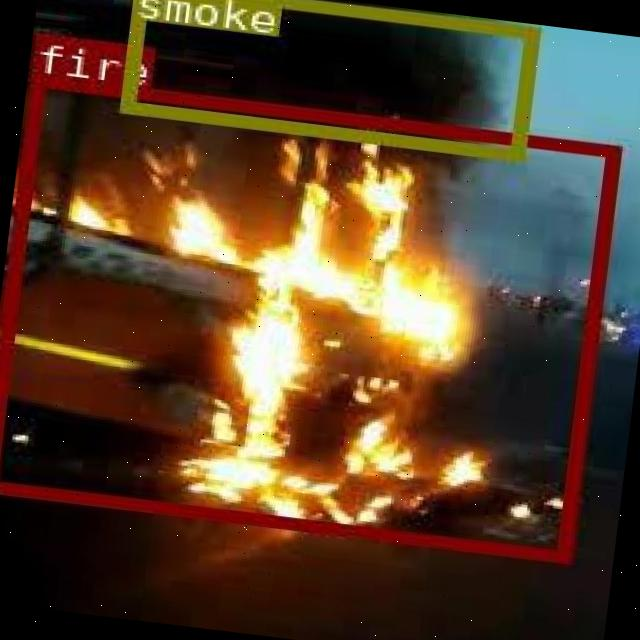fire: (0, 72, 617, 561)
smoke: (118, 0, 537, 157)
